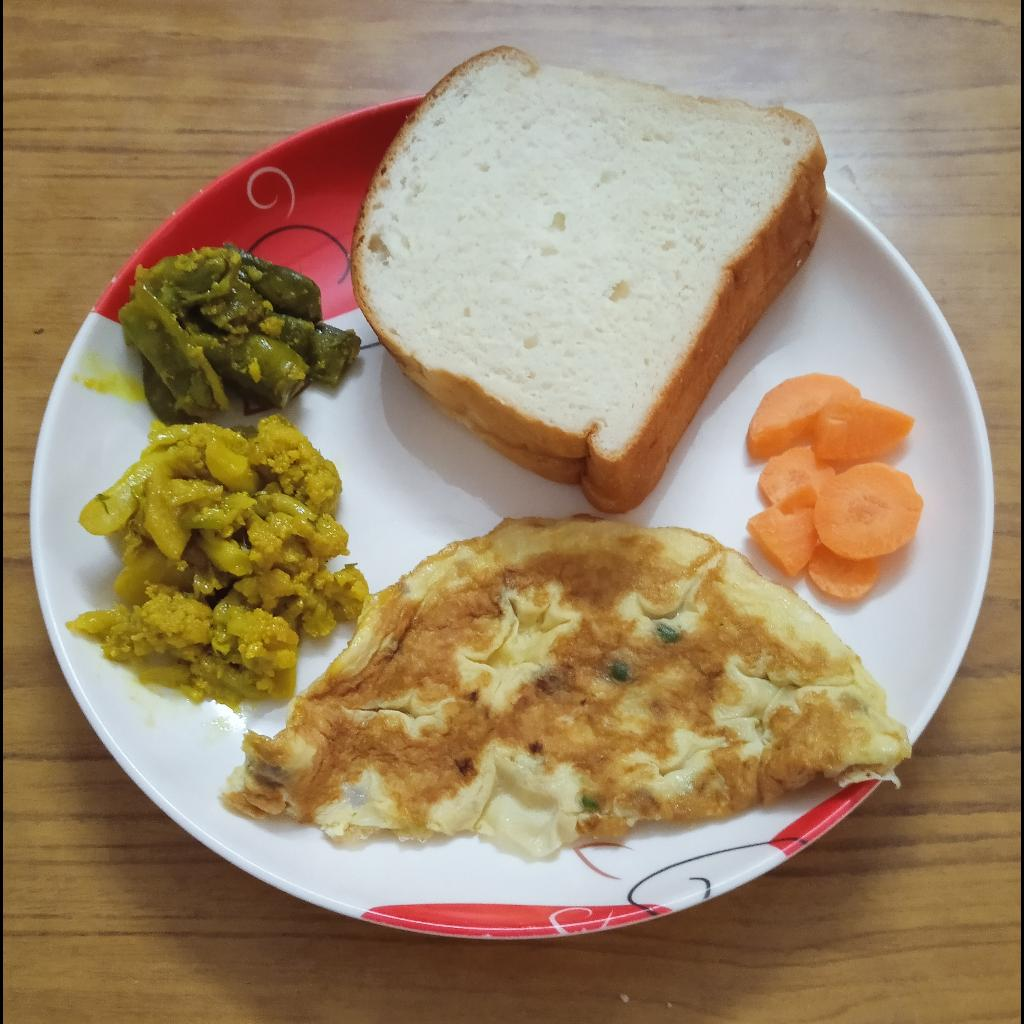bread: (352, 39, 833, 513)
carrot: (747, 372, 927, 601)
egg-poached: (223, 516, 917, 862)
shim: (116, 244, 361, 424)
vegetable: (69, 413, 371, 711)
